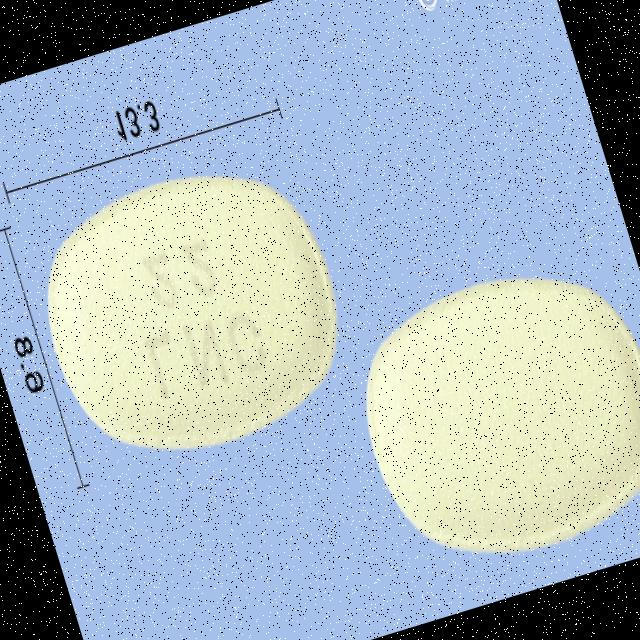Rithcinn Tab: (19, 142, 369, 482), (333, 242, 640, 588)
